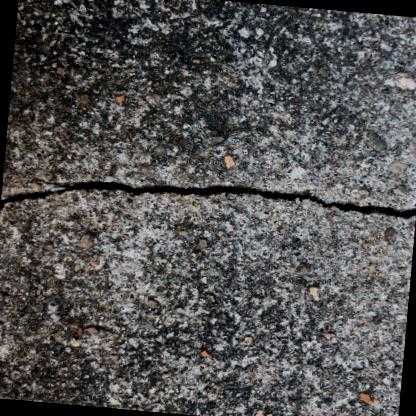crack: (0, 181, 416, 220)
